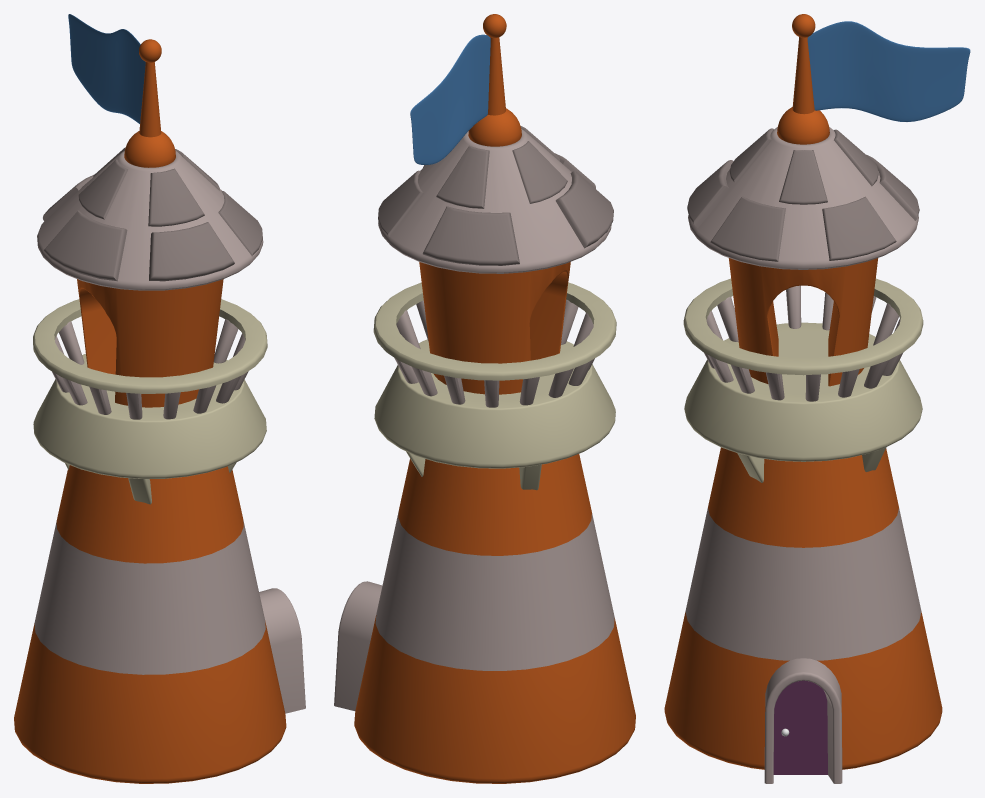
Rendered from kule_1.fbx.
3 renders of one model, left to right at view 1: azimuth 30°, elevation 25°; view 2: azimuth 150°, elevation 25°; view 3: azimuth 270°, elevation 25°, orthographic. The views are drawn at different scales.
Visible parts, largest first — view 1: kulealt, Circle.001, Circle.008, Circle.004, Circle.005, Circle.003, Plane.006, Circle.002, Circle, Sphere, Circle.011, Circle.007; view 2: kulealt, Circle.001, Circle.004, Circle.008, Circle.005, Circle.003, Plane.006, Circle.002, Circle, Sphere, Circle.011, Circle.007; view 3: kulealt, Circle.001, Circle.008, Plane.006, Circle.005, Circle.004, Circle, Circle.003, Circle.002, Sphere, Circle.011, Circle.007.
Part boxes in pixels (box(x1,y1,x2,y2)): kulealt: box(14, 465, 286, 783); Circle.001: box(33, 353, 266, 478); Circle.008: box(43, 147, 262, 281); Circle.004: box(77, 279, 223, 407); Circle.005: box(37, 150, 263, 290); Circle.003: box(33, 299, 267, 393); Plane.006: box(68, 14, 145, 123); Circle.002: box(52, 319, 248, 419); Circle: box(259, 588, 305, 713); Sphere: box(124, 131, 175, 167); Circle.011: box(139, 62, 161, 137); Circle.007: box(65, 462, 236, 504); kulealt: box(354, 454, 635, 783); Circle.001: box(374, 339, 615, 468); Circle.004: box(419, 262, 570, 394); Circle.008: box(378, 126, 613, 265); Circle.005: box(378, 129, 611, 273); Circle.003: box(373, 282, 616, 380); Plane.006: box(410, 34, 490, 164); Circle.002: box(394, 299, 594, 407); Circle: box(334, 581, 382, 710); Sphere: box(468, 108, 521, 146); Circle.011: box(487, 37, 505, 115); Circle.007: box(406, 451, 541, 490); kulealt: box(664, 447, 942, 769); Circle.001: box(684, 322, 922, 461); Circle.008: box(687, 128, 919, 261); Plane.006: box(807, 21, 970, 121); Circle.005: box(688, 127, 918, 269); Circle.004: box(728, 258, 878, 386); Circle: box(764, 658, 842, 783); Circle.003: box(683, 278, 923, 375); Circle.002: box(704, 285, 903, 401); Sphere: box(777, 107, 829, 144); Circle.011: box(792, 37, 814, 114); Circle.007: box(737, 447, 886, 482).
Bounding box in the file's own units: 630 × 1619 × 640.
